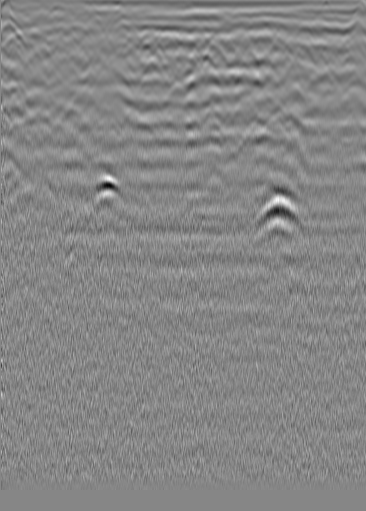가스: (85, 174, 129, 204)
상수: (329, 29, 349, 49)
오수: (26, 25, 46, 45)
우수: (203, 37, 223, 57)
